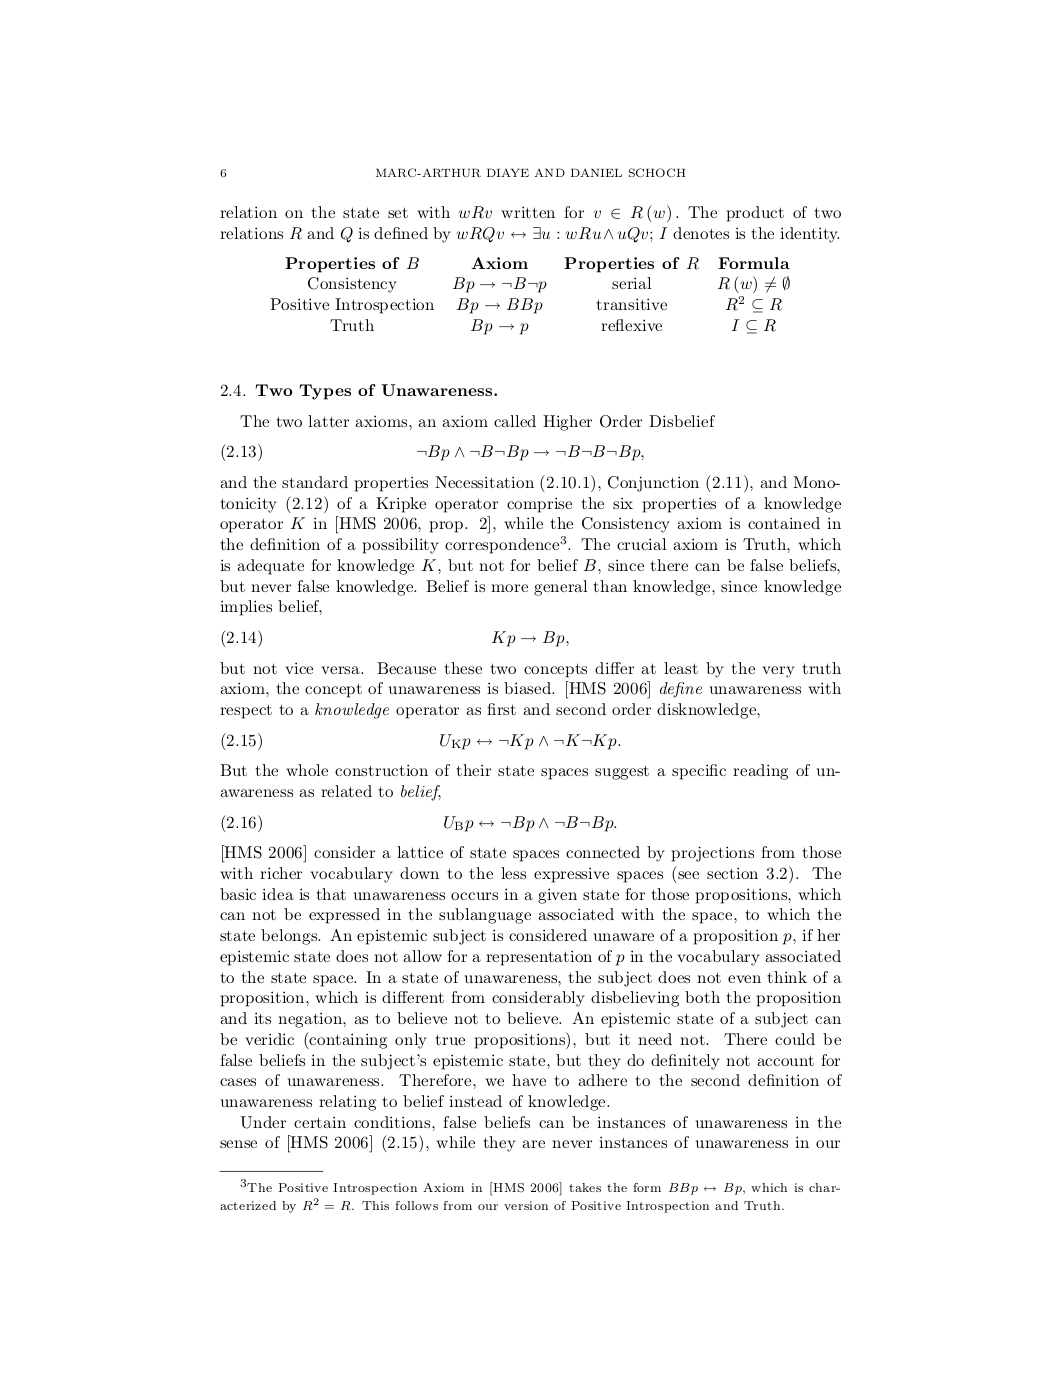Table: (270, 257, 789, 334)
formula: (221, 444, 643, 462), (221, 732, 620, 751), (221, 814, 616, 832), (221, 629, 568, 647)
